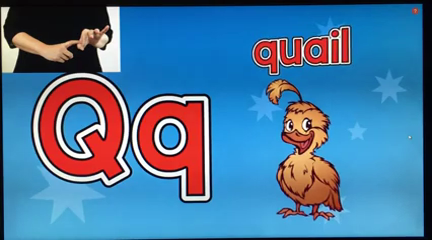Q: (39, 21, 115, 66)
